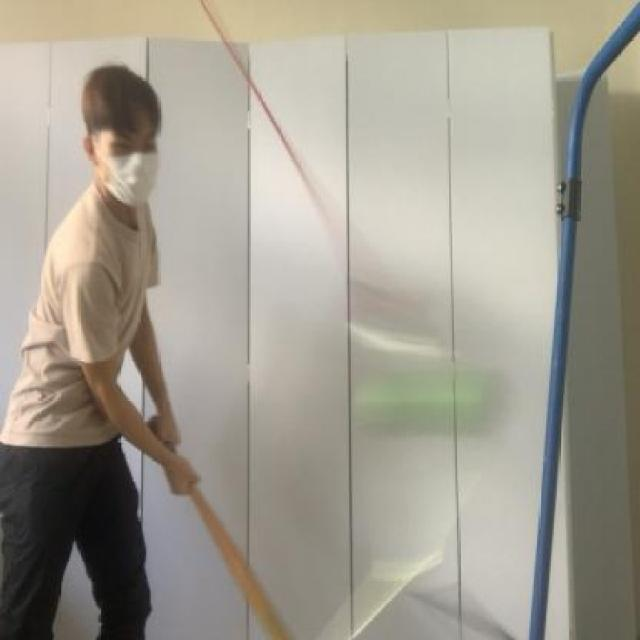baseball: (348, 358, 512, 444)
